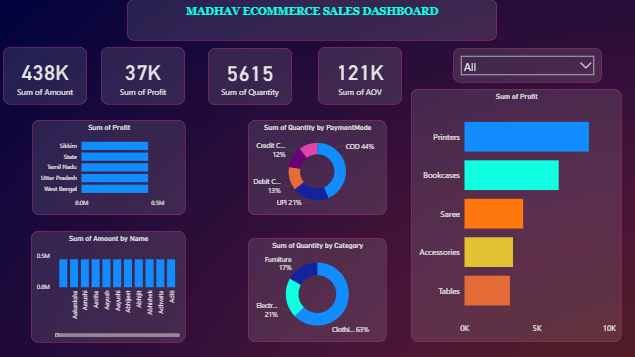

Layout of this report page (visuals, bound fields, positions):
{"tool":"powerbi","page":{"name":"Page 1","canvas":[1280,720],"ordinal":0},"visuals":[{"type":"textbox","box":[257.7,0,740.4,82.7],"z":0},{"type":"barChart","title":"Sum of Profit ","fields":{"Y":["Details.Profit"],"Category":["Details.Sub-Category"]},"box":[826.9,180.8,421.2,505.8],"z":1000},{"type":"donutChart","fields":{"Category":["Details.Category"],"Y":["Details.Quantity"]},"box":[500.6,478.7,277.2,208.3],"z":2000},{"type":"donutChart","fields":{"Y":["Details.Quantity"],"Category":["Details.PaymentMode"]},"box":[500.6,241.9,277.2,189.8],"z":3000},{"type":"card","fields":{"Values":["Details.Amount"]},"box":[10.1,95,168.5,115.2],"z":4000},{"type":"card","fields":{"Values":["Details.Profit"]},"box":[205.9,95,168.5,115.2],"z":5000},{"type":"card","fields":{"Values":["Details.Quantity"]},"box":[419.9,97.4,168,114.2],"z":6000},{"type":"card","fields":{"Values":["Details.AOV"]},"box":[639.4,95,168.5,115.2],"z":7000},{"type":"barChart","title":"Sum of Profit ","fields":{"Category":["Orders.State"],"Y":["Details.Amount"]},"box":[67.7,241.9,306.7,190.1],"z":8000},{"type":"columnChart","fields":{"Category":["Orders.Name"],"Y":["Details.Amount"]},"box":[65.5,463.6,309.1,223.4],"z":9000},{"type":"slicer","fields":{"Values":["Orders.State"]},"box":[909.6,98.1,298.1,69.2],"z":10000}]}

Visuals, with their boxes in screenshot pixels (x1, y1, x2, y2), scaled from the page's 1280x720 canvas onto the 635x357 screenshot:
textbox: <bbox>128, 0, 495, 41</bbox>
"Sum of Profit " barChart: <bbox>410, 90, 619, 340</bbox>
donutChart - Details.Category x Details.Quantity: <bbox>248, 237, 386, 341</bbox>
donutChart - Details.Quantity x Details.PaymentMode: <bbox>248, 120, 386, 214</bbox>
card - Details.Amount: <bbox>5, 47, 89, 104</bbox>
card - Details.Profit: <bbox>102, 47, 186, 104</bbox>
card - Details.Quantity: <bbox>208, 48, 292, 105</bbox>
card - Details.AOV: <bbox>317, 47, 401, 104</bbox>
"Sum of Profit " barChart: <bbox>34, 120, 186, 214</bbox>
columnChart - Orders.Name x Details.Amount: <bbox>32, 230, 186, 341</bbox>
slicer - Orders.State: <bbox>451, 49, 599, 83</bbox>
